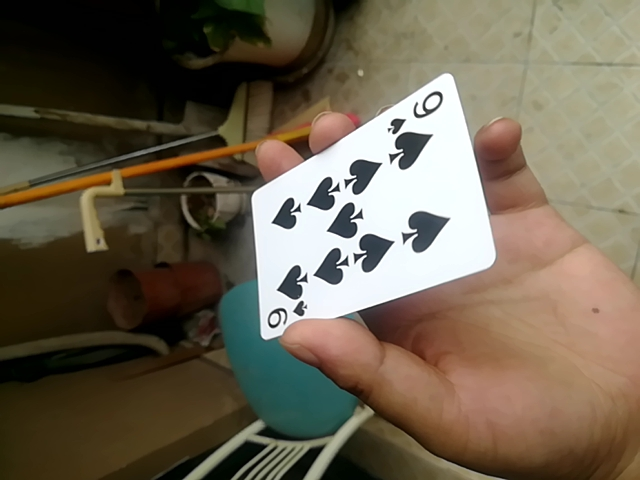ht 9: (239, 70, 495, 340)
